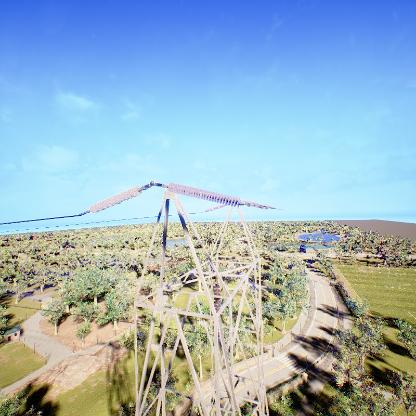insulator: (167, 182, 242, 209), (87, 185, 143, 214)
